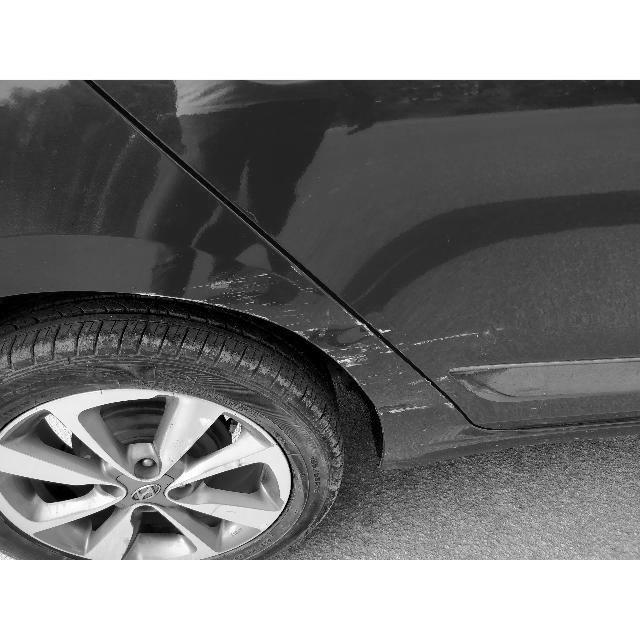quaterpanel-dent: (1, 190, 396, 536)
